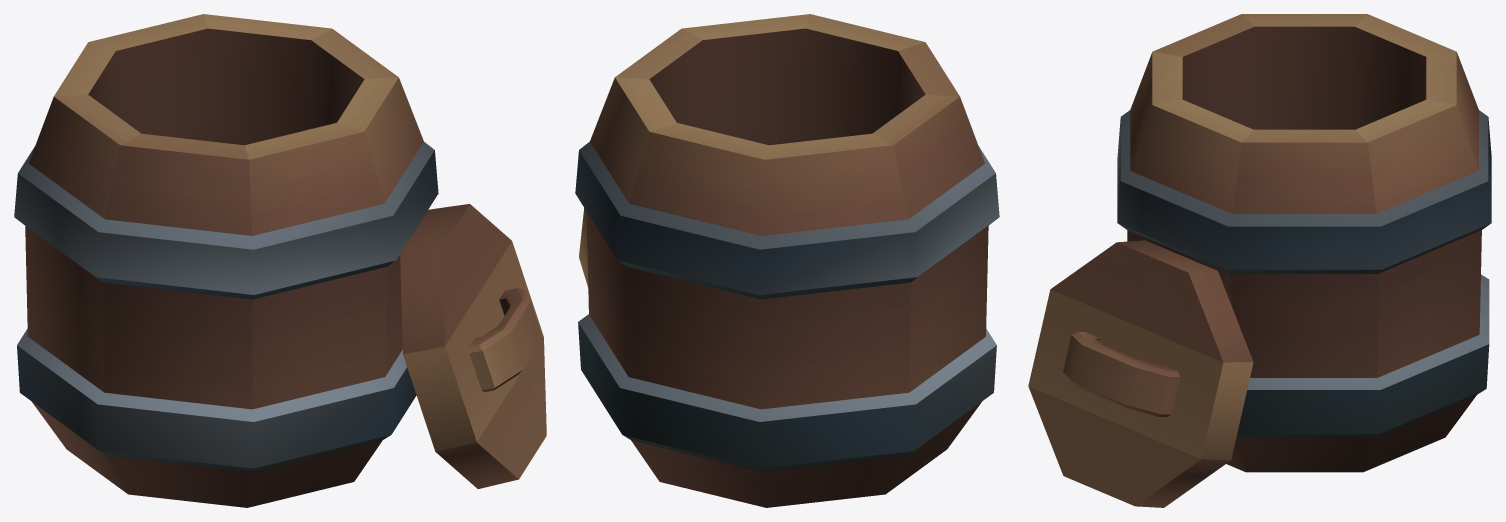
File: barrel_empty.fbx
3 views of the same model, side by side, from view 1: azimuth 30°, elevation 25°; view 2: azimuth 150°, elevation 25°; view 3: azimuth 270°, elevation 25° (orthographic). The views are drawn at different scales.
Visible parts, largest first — view 1: barrel_empty; view 2: barrel_empty; view 3: barrel_empty.
Boxes of the visible parts, x1,y1,x2,y2 form: barrel_empty: [14, 14, 546, 507]; barrel_empty: [575, 14, 999, 507]; barrel_empty: [1028, 14, 1491, 507].
Bounding box in the file's own units: 118 × 91.94 × 115.
